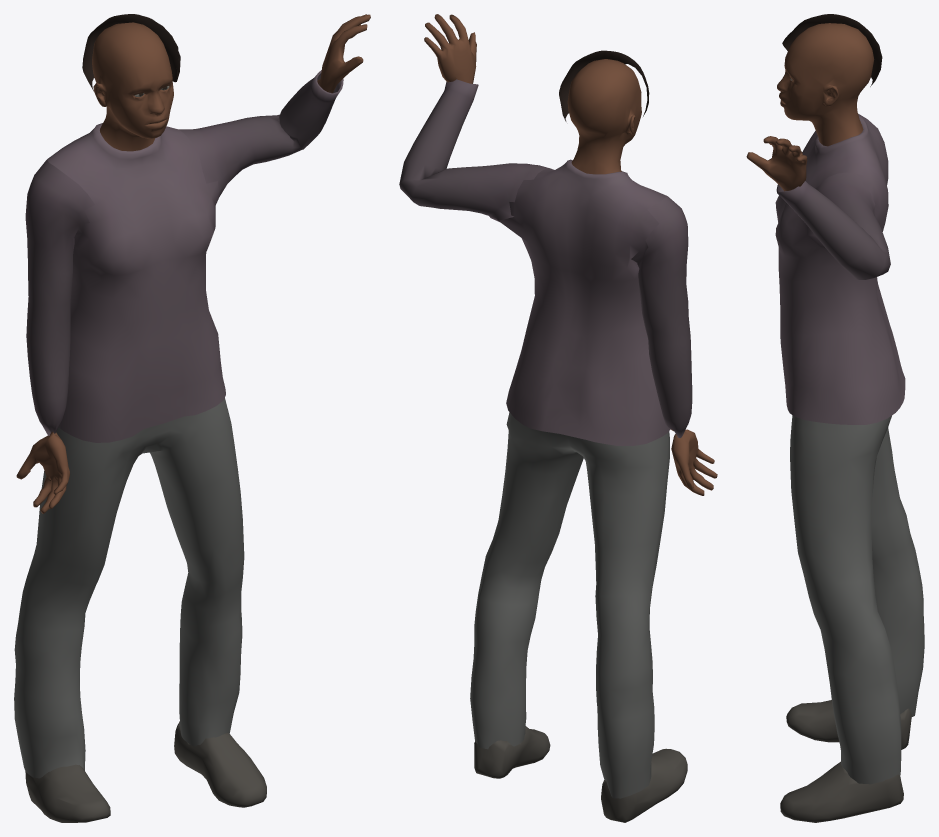
The model's file is participant-03-middle.glb.
The picture shows the model from 3 angles, left to right: view 1: azimuth 30°, elevation 25°; view 2: azimuth 150°, elevation 25°; view 3: azimuth 270°, elevation 25°; orthographic projection. The views are drawn at different scales.
Visible parts, largest first — view 1: Participant anatomy and ordinary clothes; view 2: Participant anatomy and ordinary clothes; view 3: Participant anatomy and ordinary clothes.
Boxes of the visible parts, x1,y1,x2,y2 form: Participant anatomy and ordinary clothes: (14,14,370,822); Participant anatomy and ordinary clothes: (399,14,717,822); Participant anatomy and ordinary clothes: (746,14,924,822).
Size of the model in its own units: 0.7152 by 1.69 by 0.3626.
